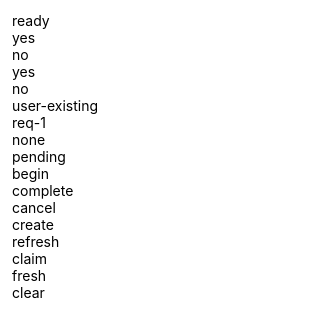
Test: ParentalConsentProvider claim intent › EXISTING ACCOUNT START-OVER RECOVERY: approved unbound routes to Sign In not CreateAccount
Expected: the text with test id "hydrate" reads "ready", x1=12 y1=12 x2=50 y2=29
Click the text with test id "refresh" at coordinates (36, 242), box x1=12 y1=233 x2=59 y2=250
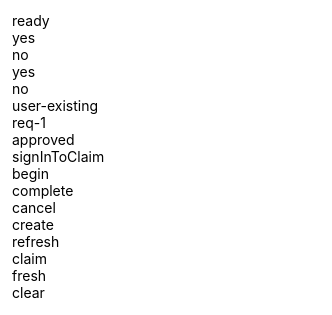
Now the text with test id "destination" reads "signInToClaim", box x1=12 y1=148 x2=104 y2=165
